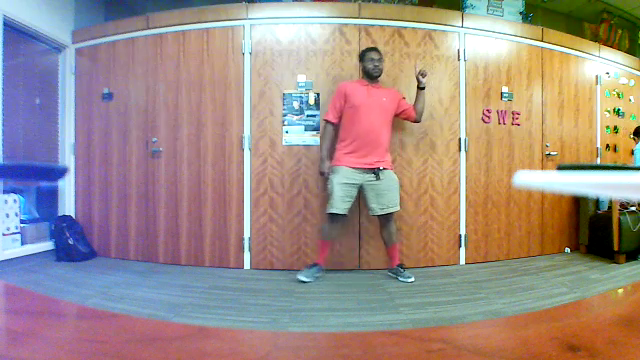up: (412, 59, 431, 90)
